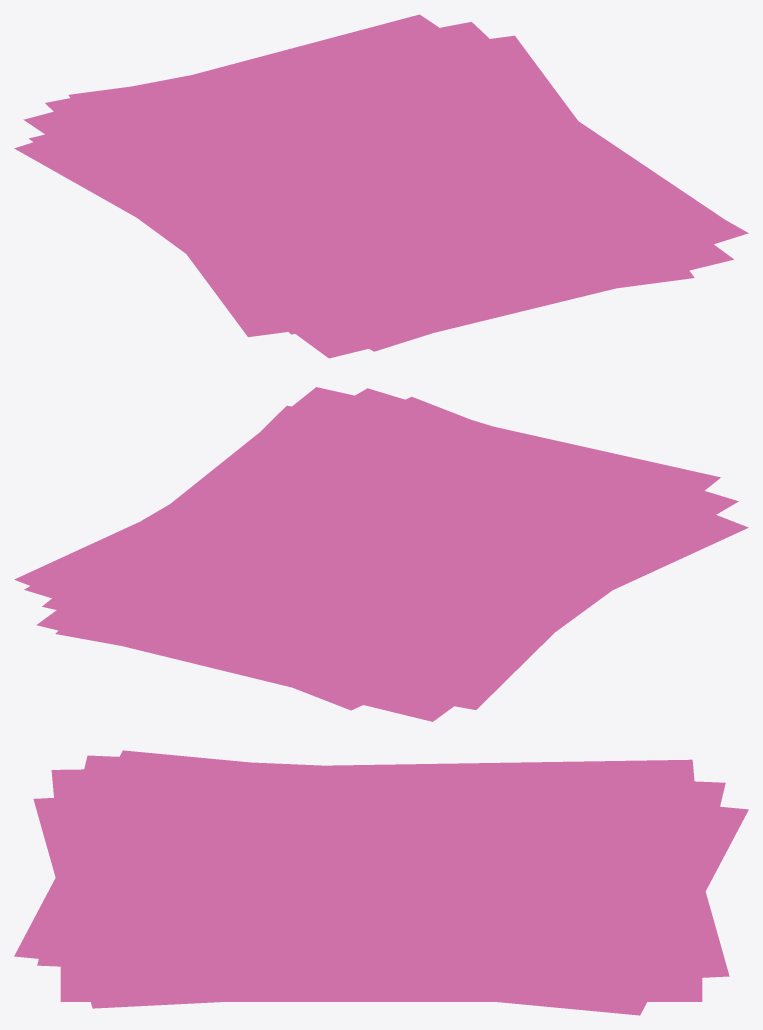
File: paper.fbx
The picture shows the model from 3 angles, top to bottom: view 1: azimuth 30°, elevation 25°; view 2: azimuth 150°, elevation 25°; view 3: azimuth 270°, elevation 25°; orthographic projection. The views are drawn at different scales.
Parts seen in each view (by area): view 1: Plane.004, Plane.003, Plane.001, Plane.002, Plane; view 2: Plane.004, Plane.003, Plane.001, Plane.002, Plane; view 3: Plane.004, Plane.003, Plane.001, Plane.002, Plane.
Boxes of the visible parts, box(x1,y1,x2,y2) form: Plane.004: box(23, 14, 739, 334); Plane.003: box(45, 22, 717, 334); Plane.001: box(68, 35, 694, 337); Plane.002: box(14, 137, 748, 351); Plane: box(29, 134, 733, 358); Plane.004: box(42, 387, 720, 696); Plane.003: box(24, 388, 738, 702); Plane.001: box(14, 396, 748, 710); Plane.002: box(55, 405, 583, 709); Plane: box(36, 591, 611, 721); Plane.004: box(51, 759, 711, 980); Plane.003: box(37, 755, 725, 992); Plane.001: box(14, 750, 748, 1015); Plane.002: box(33, 798, 729, 1008); Plane: box(60, 966, 702, 1001).
Bounding box in the file's own units: 110 × 5.04 × 129.
